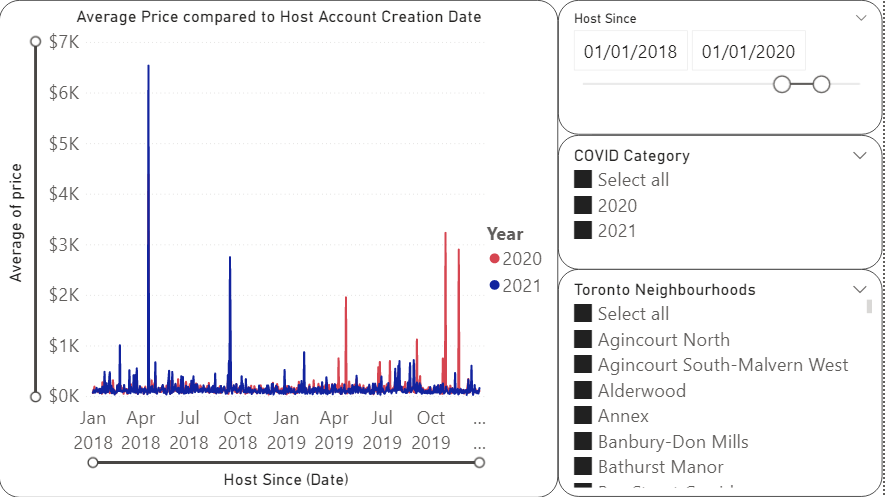

The page's visual inventory and layout, read from the dashboard file:
{"tool":"powerbi","page":{"name":"Line Graph","canvas":[1280,720],"ordinal":2},"visuals":[{"type":"lineChart","title":"Average Price compared to Host Account Creation Date","fields":{"Category":["Date_Host.Date"],"Series":["airbnb_listings.Year"],"Y":["Avg(airbnb_listings.price)"]},"box":[0,0,809.7,720.6],"z":0},{"type":"slicer","fields":{"Values":["Date_Host.Date"]},"box":[809.7,0,470.3,195.3],"z":1000},{"type":"slicer","fields":{"Values":["airbnb_listings.Year"]},"box":[809.7,195.3,470.3,195.3],"z":2000},{"type":"slicer","fields":{"Values":["airbnb_listings.neighbourhood_cleansed"]},"box":[809.7,390,470.3,330],"z":3000}]}

Visuals, with their boxes in screenshot pixels (x1, y1, x2, y2), scaled from the page's 1280x720 canvas onto the 885x497 screenshot:
"Average Price compared to Host Account Creation Date" lineChart: <region>0, 0, 560, 496</region>
slicer - Date_Host.Date: <region>560, 0, 884, 135</region>
slicer - airbnb_listings.Year: <region>560, 135, 884, 270</region>
slicer - airbnb_listings.neighbourhood_cleansed: <region>560, 269, 884, 496</region>
